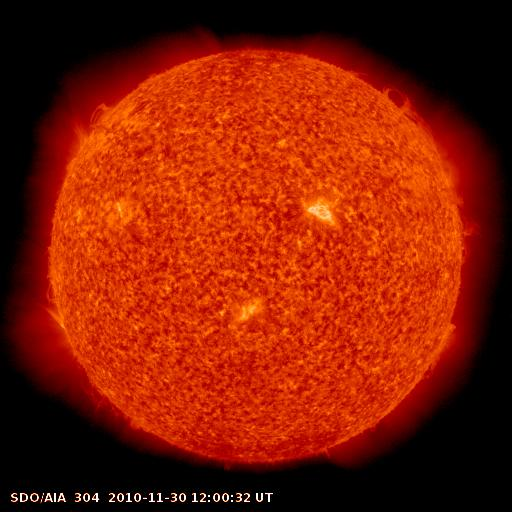prominence: (74, 377, 160, 436), (378, 75, 440, 143), (411, 314, 468, 384), (58, 97, 118, 159), (36, 242, 71, 320), (454, 207, 489, 269)
